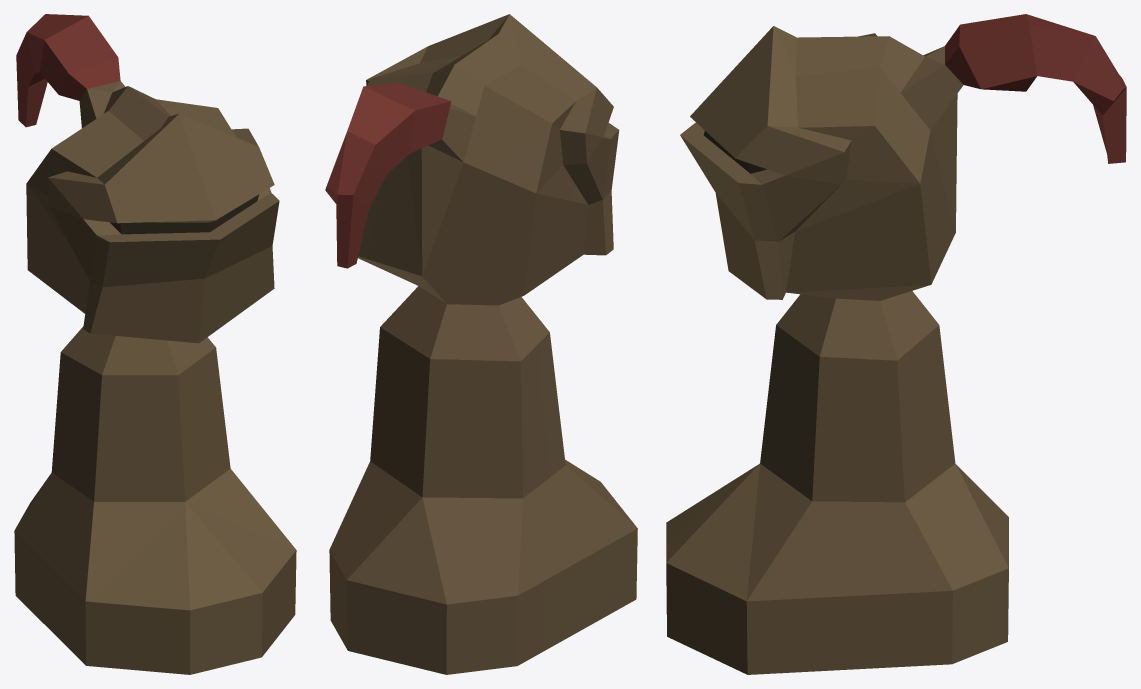
Rendered from kingdom_SM_Item_Wargames_Piece_04.gltf.
3 renders of one model, left to right at view 1: azimuth 30°, elevation 25°; view 2: azimuth 150°, elevation 25°; view 3: azimuth 270°, elevation 25°, orthographic. The views are drawn at different scales.
Visible parts, largest first — view 1: SM_Item_Wargames_Piece_04; view 2: SM_Item_Wargames_Piece_04; view 3: SM_Item_Wargames_Piece_04.
Part boxes in pixels (box(x1,y1,x2,y2)): SM_Item_Wargames_Piece_04: box(14, 14, 296, 674); SM_Item_Wargames_Piece_04: box(325, 14, 637, 674); SM_Item_Wargames_Piece_04: box(666, 14, 1126, 674).
Bounding box in the file's own units: 0.0489 × 0.1173 × 0.0811.
1 material, 1 textured.
